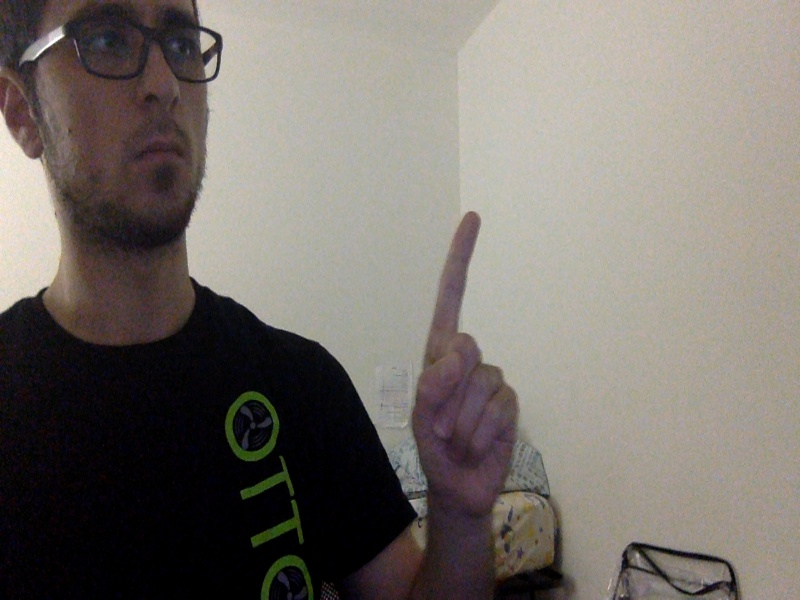1-hand: (412, 209, 519, 516)
